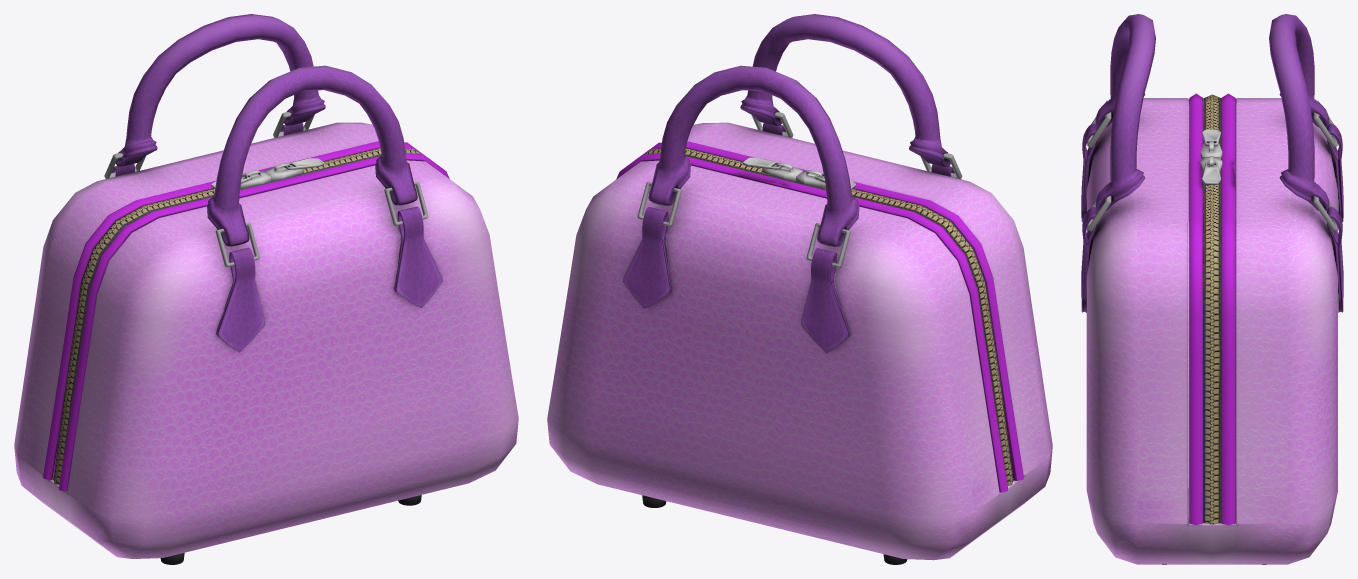
Rendered from Women bag.fbx.
3 renders of one model, left to right at view 1: azimuth 30°, elevation 25°; view 2: azimuth 150°, elevation 25°; view 3: azimuth 270°, elevation 25°, orthographic.
Parts seen in each view (by area): view 1: Women_bag; view 2: Women_bag; view 3: Women_bag.
Part boxes in pixels (bbox=[...]): Women_bag: bbox=[14, 14, 518, 564]; Women_bag: bbox=[547, 14, 1052, 564]; Women_bag: bbox=[1081, 14, 1343, 564].
Size of the model in its own units: 17.98 by 18.72 by 9.34.
